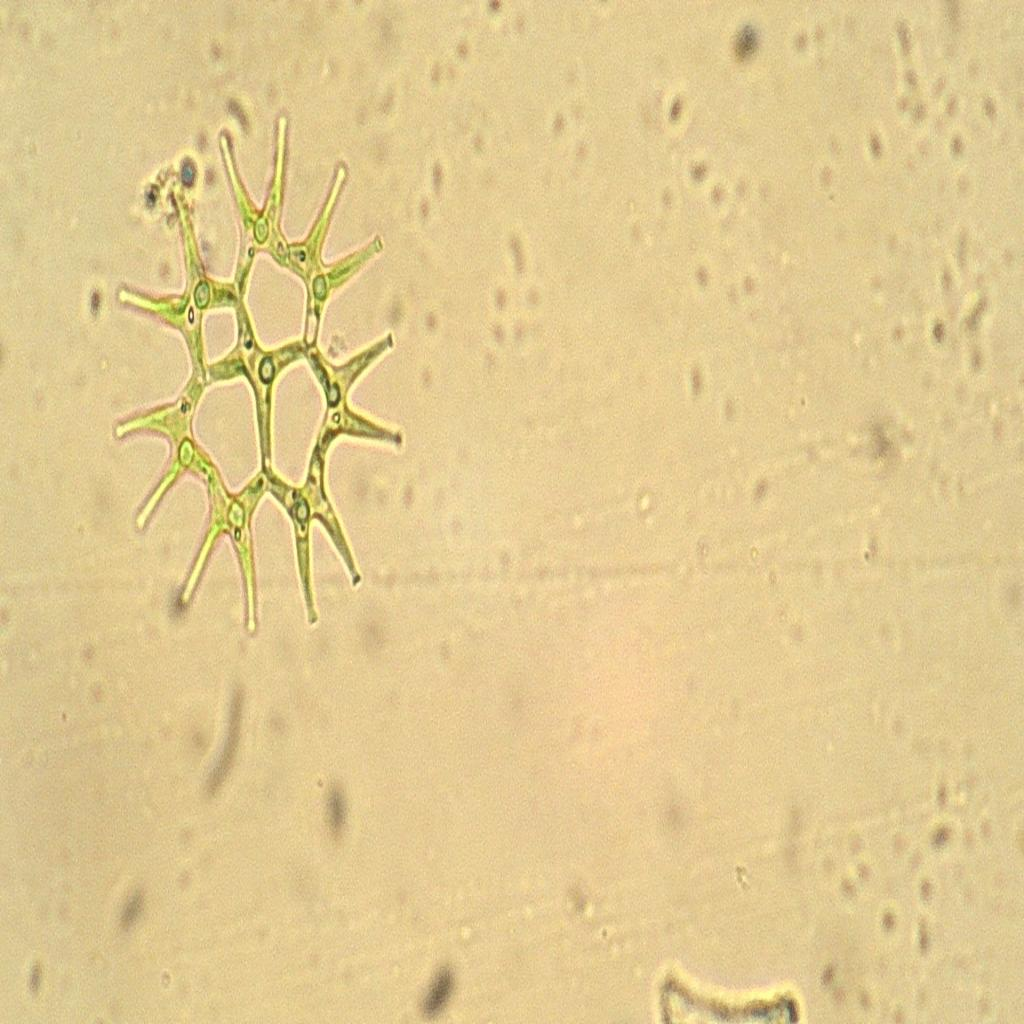Pediastrum_CTH: (107, 96, 412, 667)
